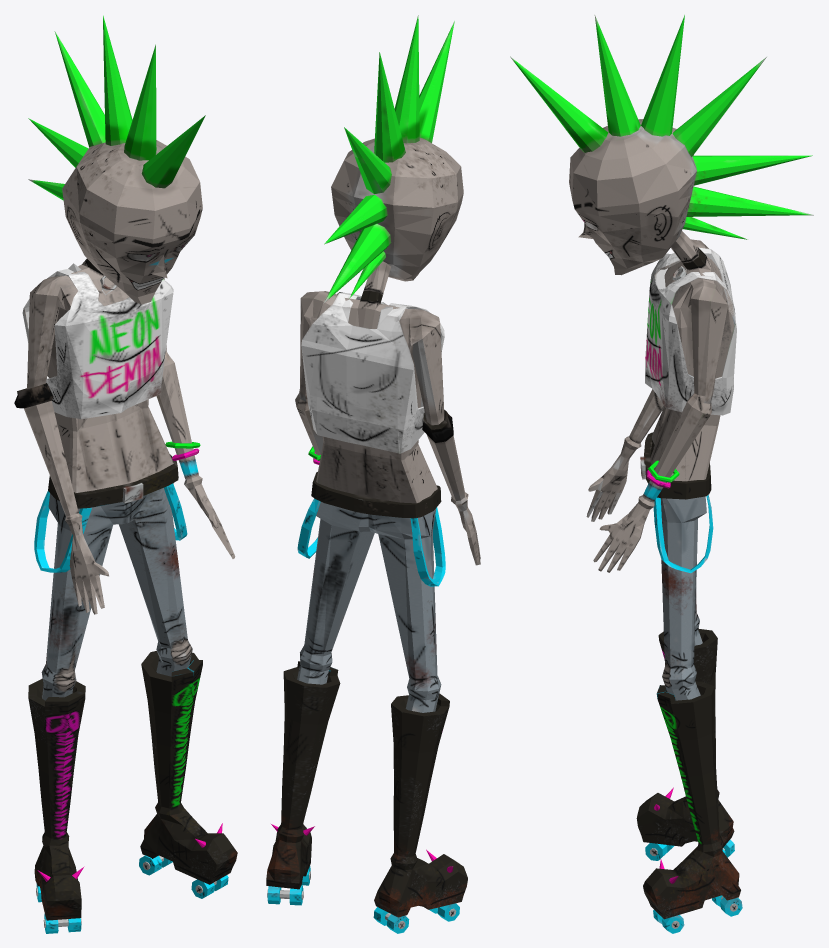
File: punkAnimation_000033.obj
3 views of the same model, side by side, from view 1: azimuth 30°, elevation 25°; view 2: azimuth 150°, elevation 25°; view 3: azimuth 270°, elevation 25° (orthographic). The views are drawn at different scales.
Parts seen in each view (by area): view 1: Cube.004_Cube.003; view 2: Cube.004_Cube.003; view 3: Cube.004_Cube.003.
Part boxes in pixels (x1,y1,x2,y2): Cube.004_Cube.003: (14,15,237,933); Cube.004_Cube.003: (266,15,480,933); Cube.004_Cube.003: (510,15,813,933).
Bounding box in the file's own units: 1.77 × 7.53 × 2.4.
